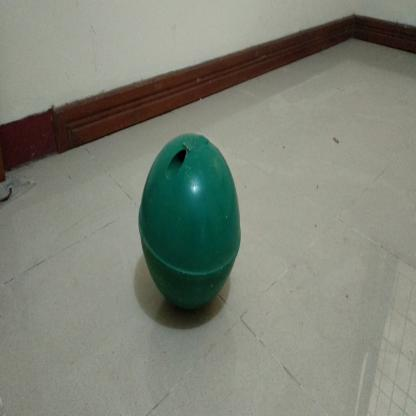green_buoy: (137, 131, 244, 320)
